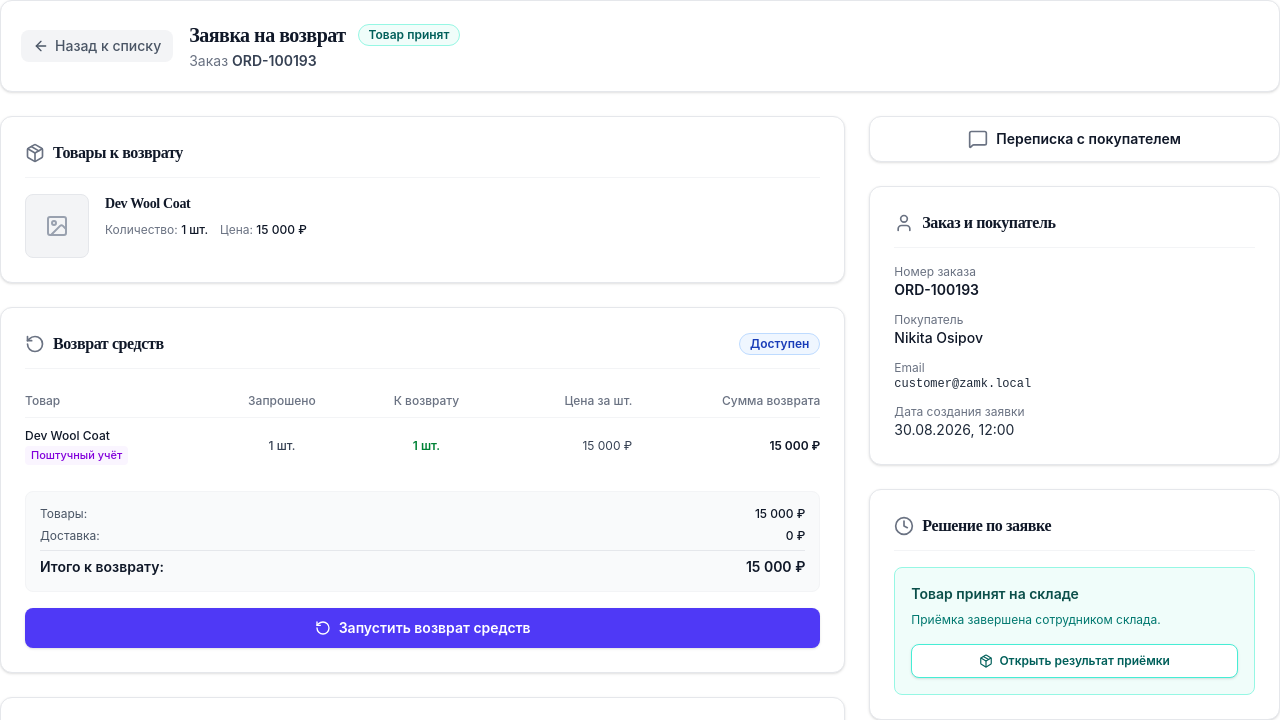
Admin Returns Refund UI (M5.4B) › POST success refetches quote to pending and renders Обрабатывается (never Выполнен)
Click the button "Запустить возврат средств" at (423, 628), box [25,608,820,648]
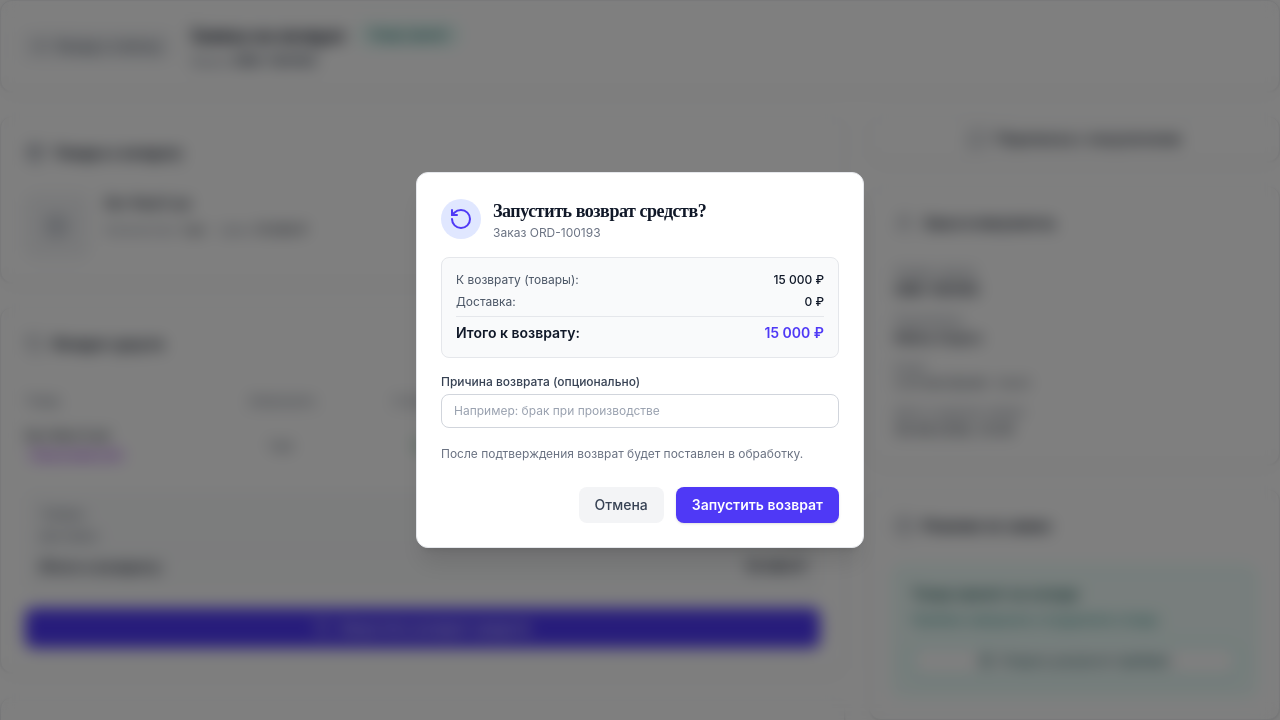
Click the button "Запустить возврат" at (757, 505), box [676,487,839,523]
(page scrolled)
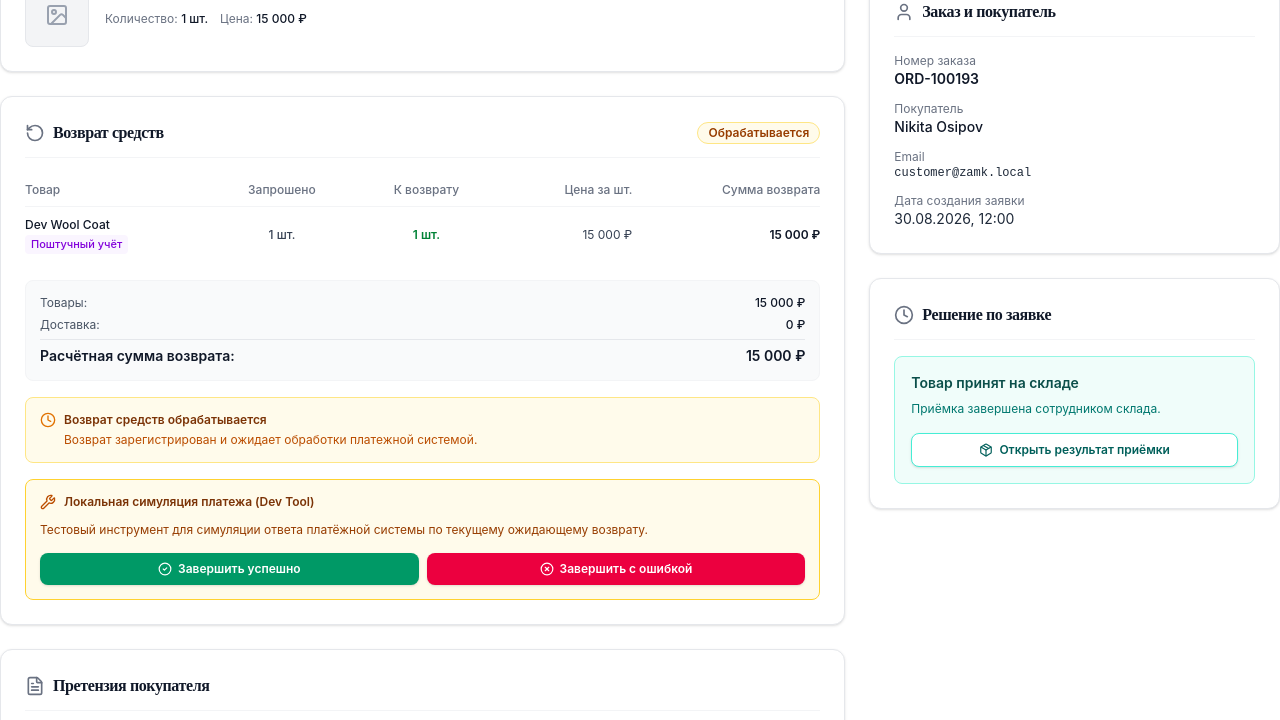
Expected: the element with test id "return-refund-card" shows "Обрабатывается", [708,125,809,140]
Expected: the element with test id "return-refund-card" shows "Возврат средств Обрабатывается", [64,412,267,427]
Expected: the element with test id "return-refund-card" shows "Возврат зарегистрирован и ожидает обработки платежной системой.", [64,432,477,447]
